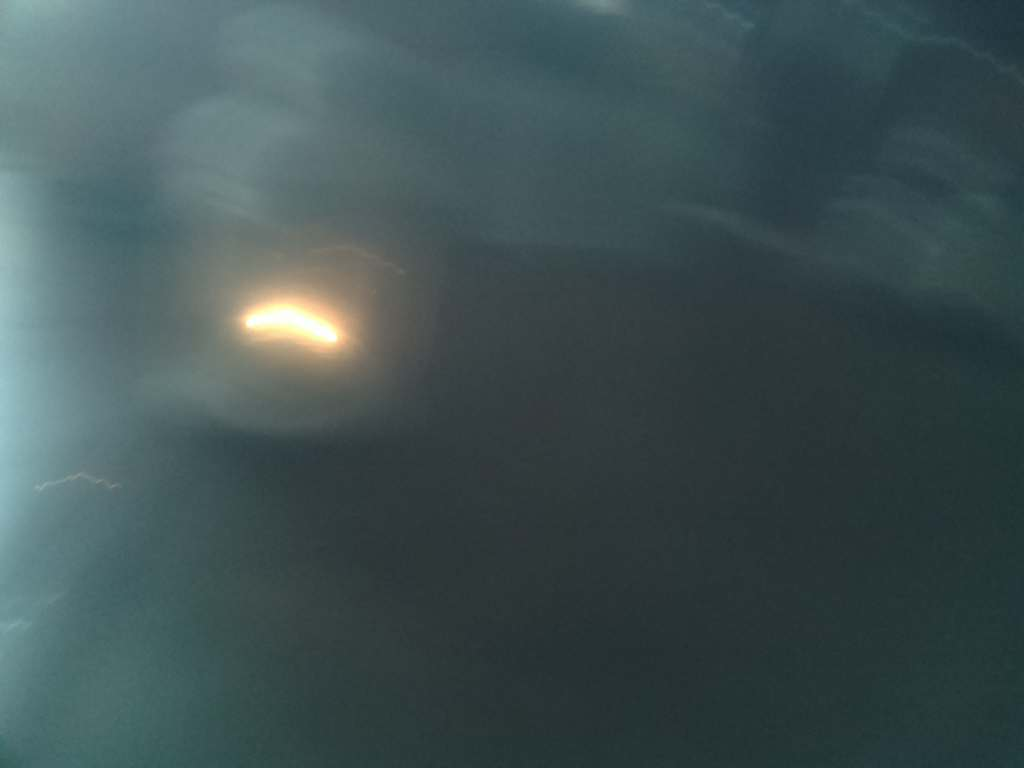fire: (233, 285, 363, 371)
